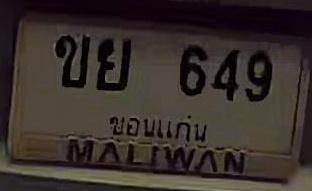number: (49, 21, 277, 108)
province: (106, 108, 210, 146)
